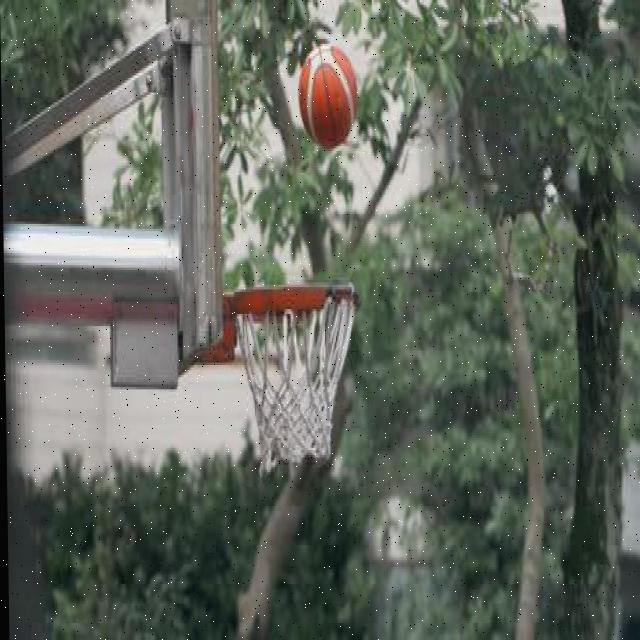Basketball: (297, 44, 359, 150)
hoop: (234, 282, 360, 478)
